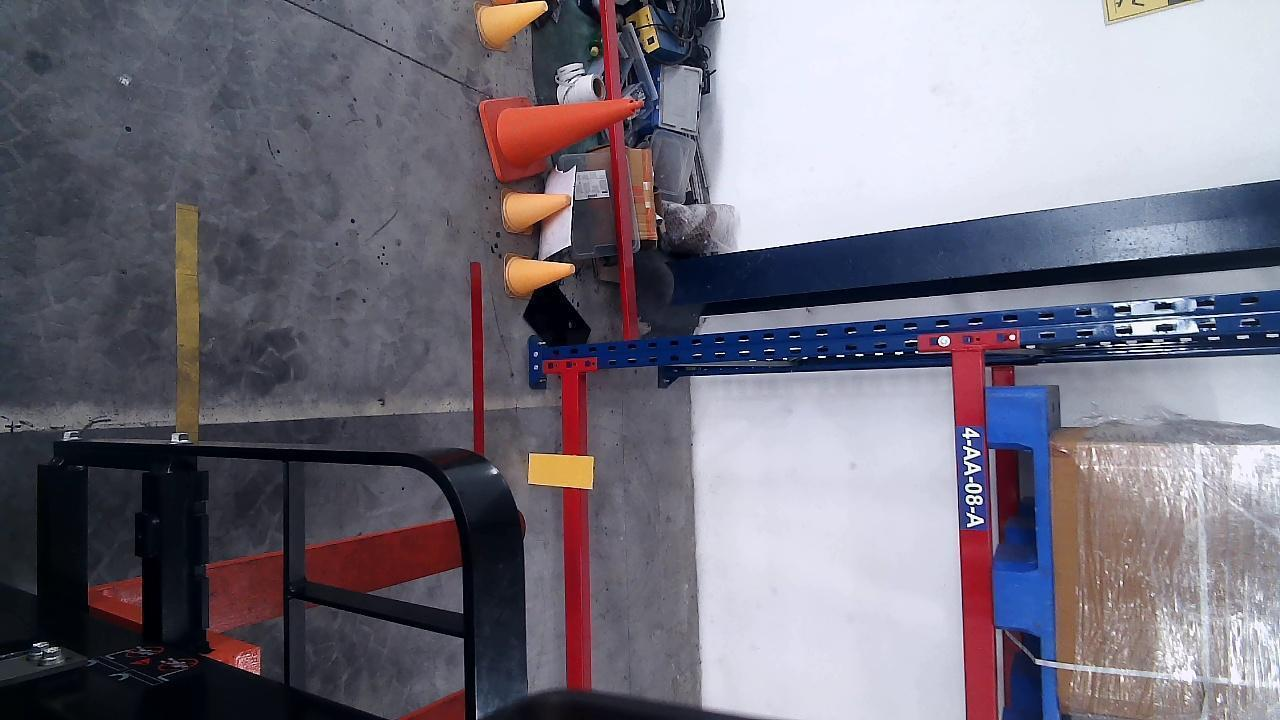red_line: (470, 259, 486, 453)
yellow_line: (176, 201, 202, 435)
